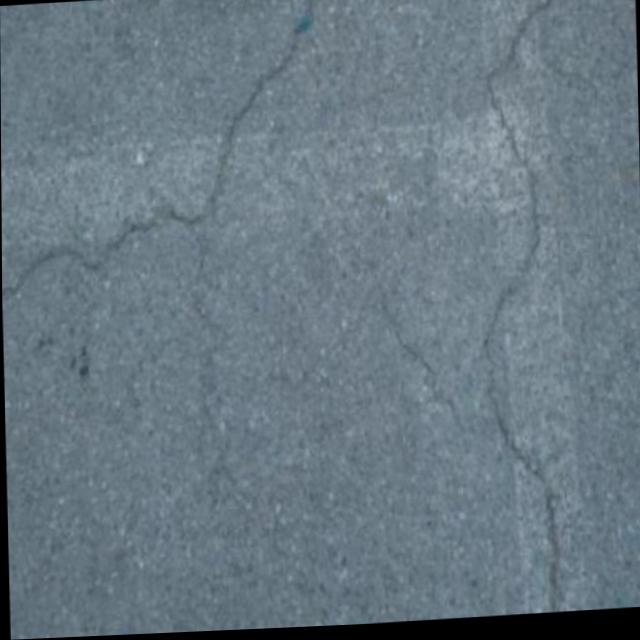Crack: (188, 0, 327, 224), (475, 270, 563, 612), (6, 206, 191, 295), (482, 84, 545, 267), (392, 328, 464, 436), (486, 0, 564, 83)
